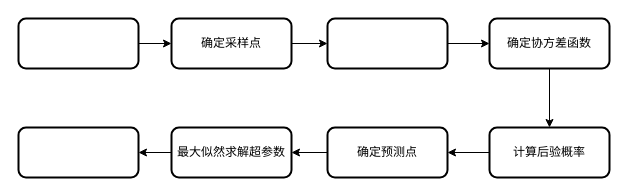
Image size: 627x195. Some labels were removed from this diagram. Here are the shapes that lost their labels. From the top down, the centre of each, then its label:
At [78,43]: "开始".
At [387,43]: "确定均值函数".
At [78,152]: "结束".
